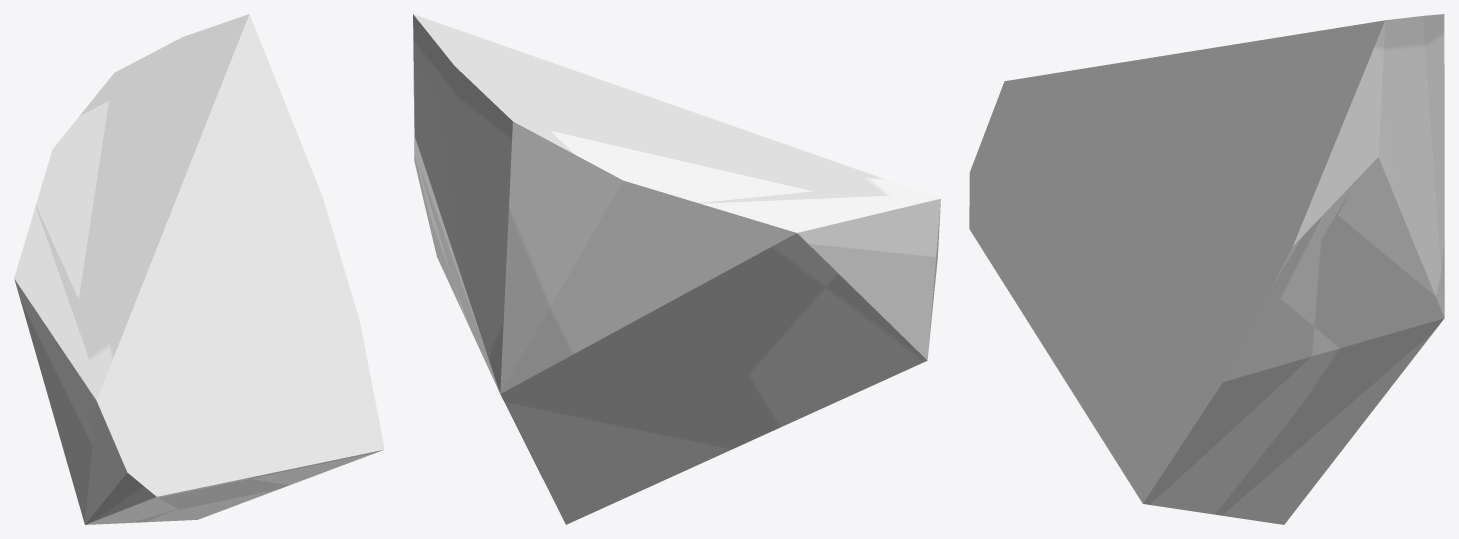
File: Project02.glb
The picture shows the model from 3 angles, left to right: view 1: azimuth 30°, elevation 25°; view 2: azimuth 150°, elevation 25°; view 3: azimuth 270°, elevation 25°; orthographic projection. The views are drawn at different scales.
Visible parts, largest first — view 1: project05; view 2: project05; view 3: project05.
Part boxes in pixels (x1,y1,x2,y2): project05: (14,14,384,524); project05: (413,14,940,524); project05: (969,14,1444,524).
Bounding box in the file's own units: 1.19 × 1.47 × 1.13.
2 materials, 1 textured.
